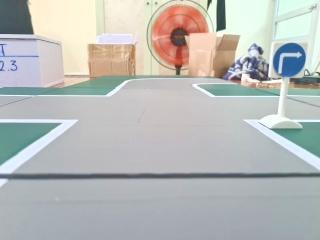right: (267, 39, 307, 80)
